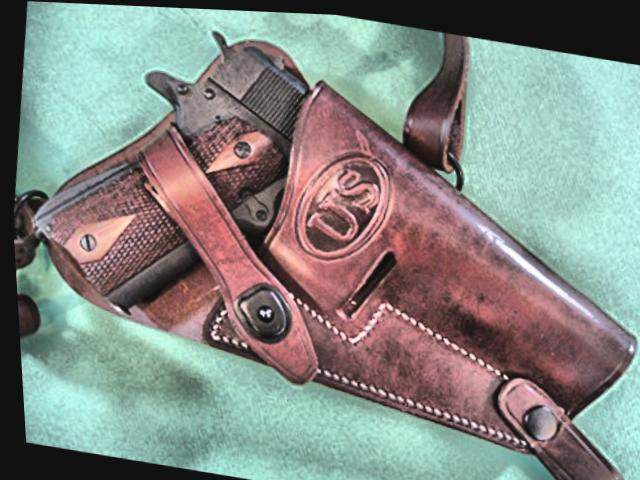pistol: (0, 0, 640, 462)
